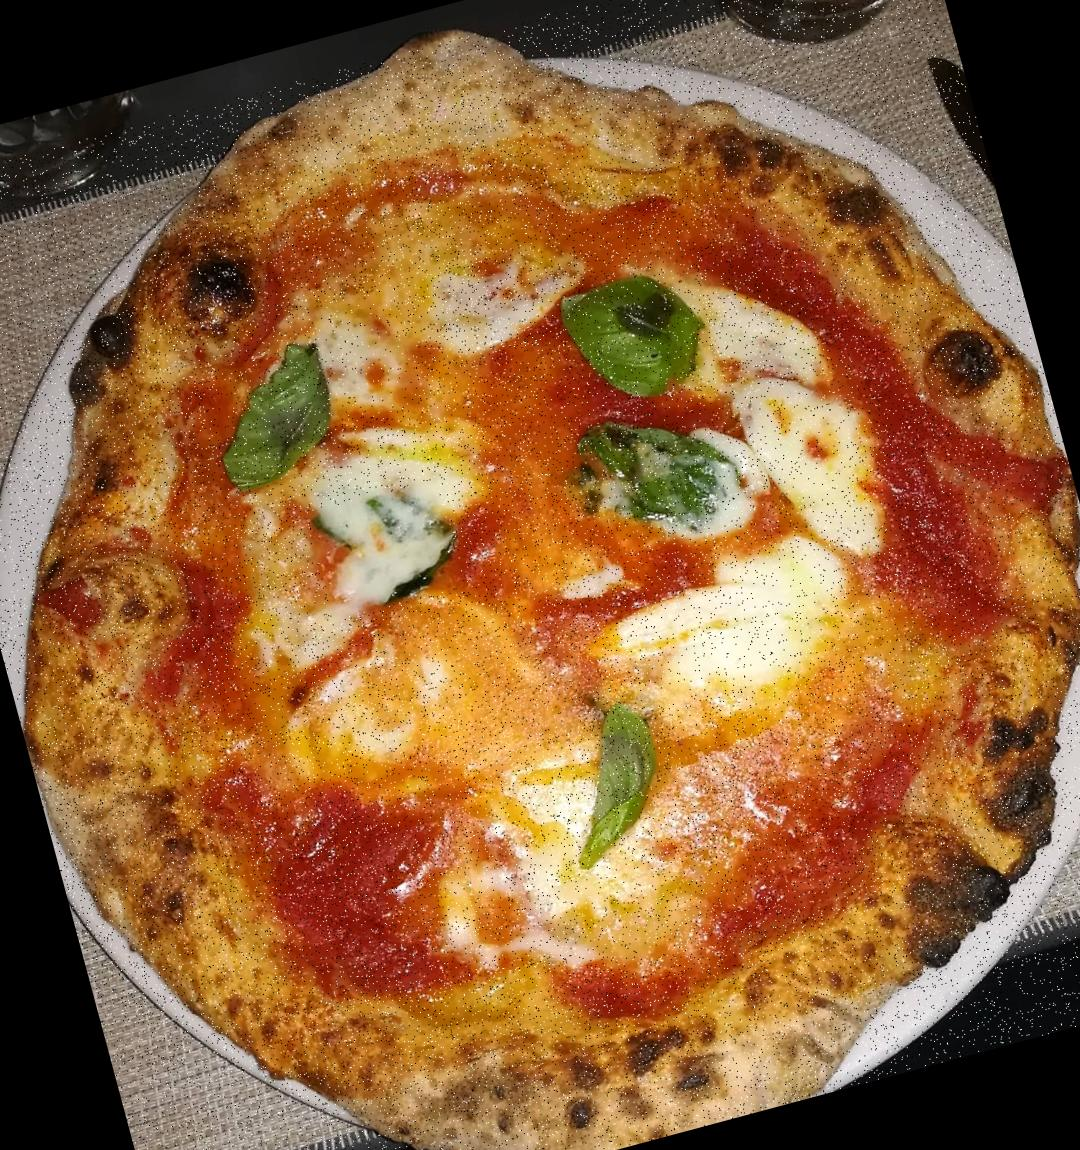Basil: (552, 259, 718, 415), (541, 694, 684, 870), (572, 397, 731, 541), (197, 341, 345, 493), (308, 479, 465, 619)
Cheese: (631, 561, 840, 707), (748, 373, 883, 548), (418, 238, 556, 357), (312, 288, 421, 420)
Pizza: (0, 0, 1080, 1150)
